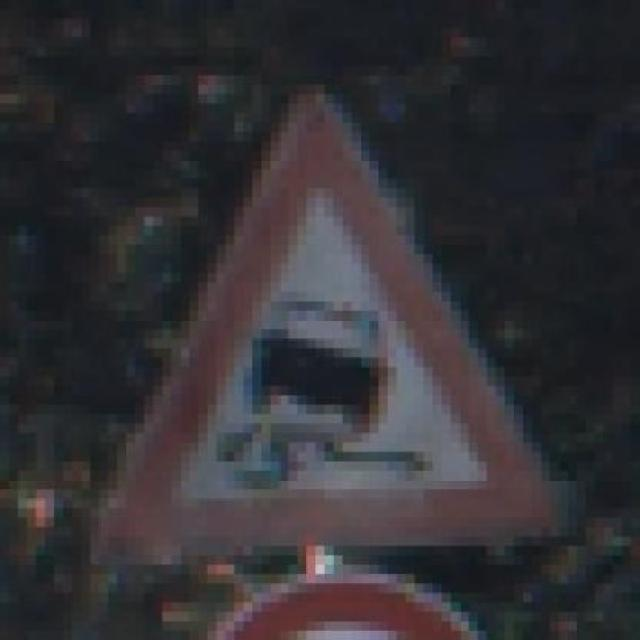Slippery Road Ahead: (99, 84, 576, 574)
